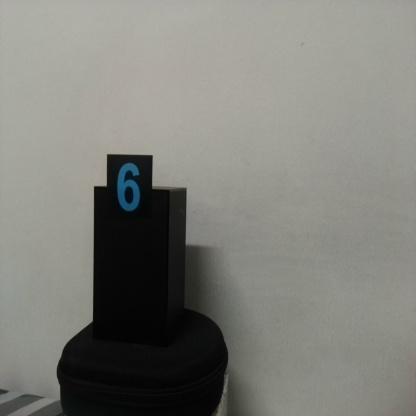id_6: (107, 156, 151, 227)
